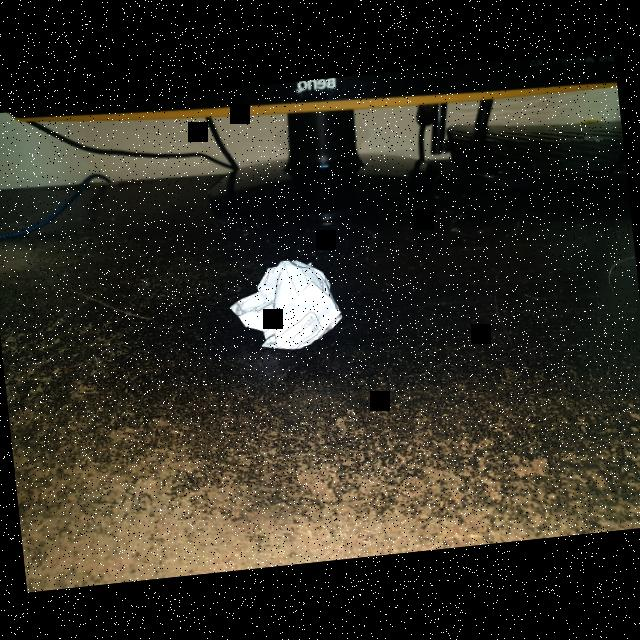scrap_paper: (221, 251, 345, 357)
